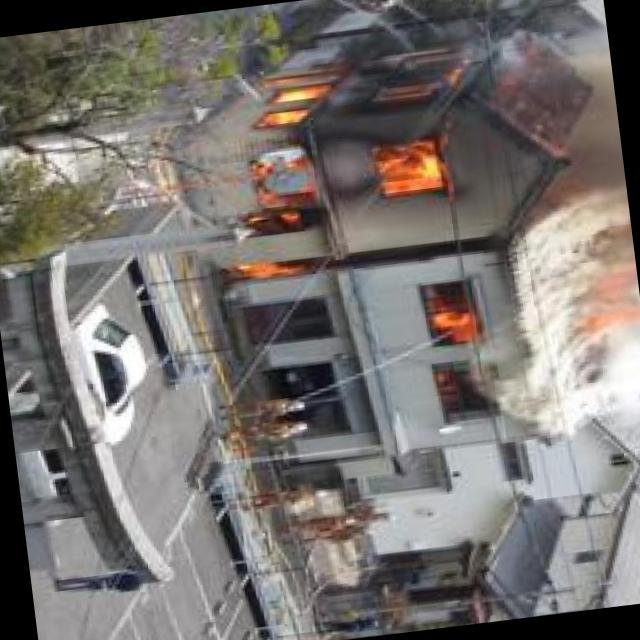Fire: (198, 23, 505, 295), (421, 278, 486, 411), (569, 250, 640, 359)
